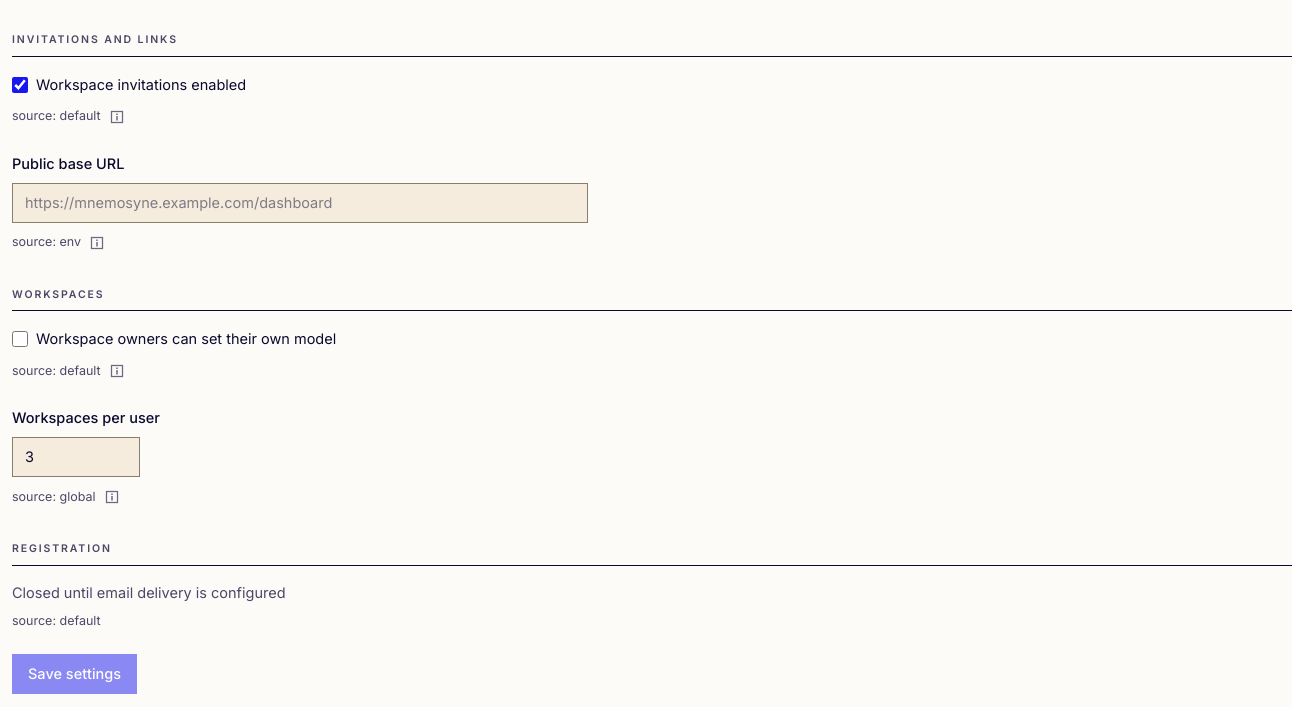
settings › clearing the address sends null; an invalid limit sends nothing
This screenshot has width=1292, height=707.
Earlier steps of the test are not shown.
Step 1. Replace the text in the number field labelled "Workspaces per user" with "5000" → (76, 457), box [12,437,140,477]
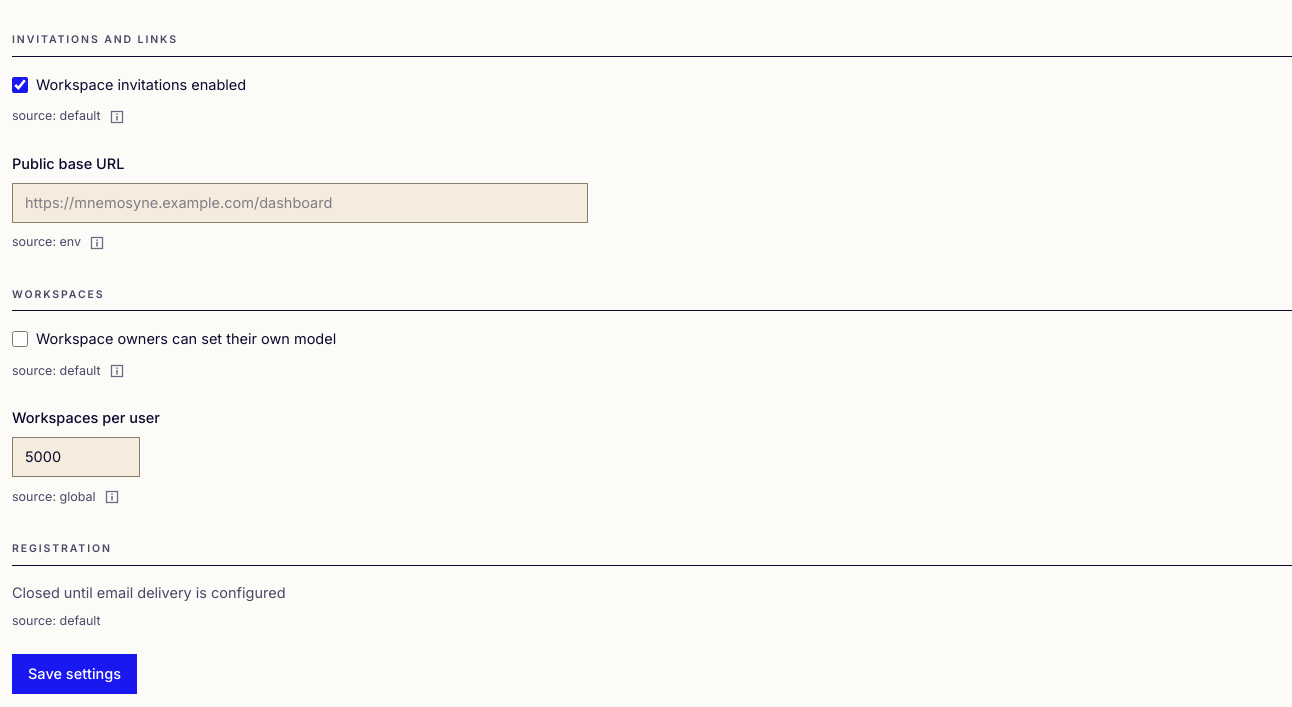
Step 2. Submit the form named "Workspaces per user"
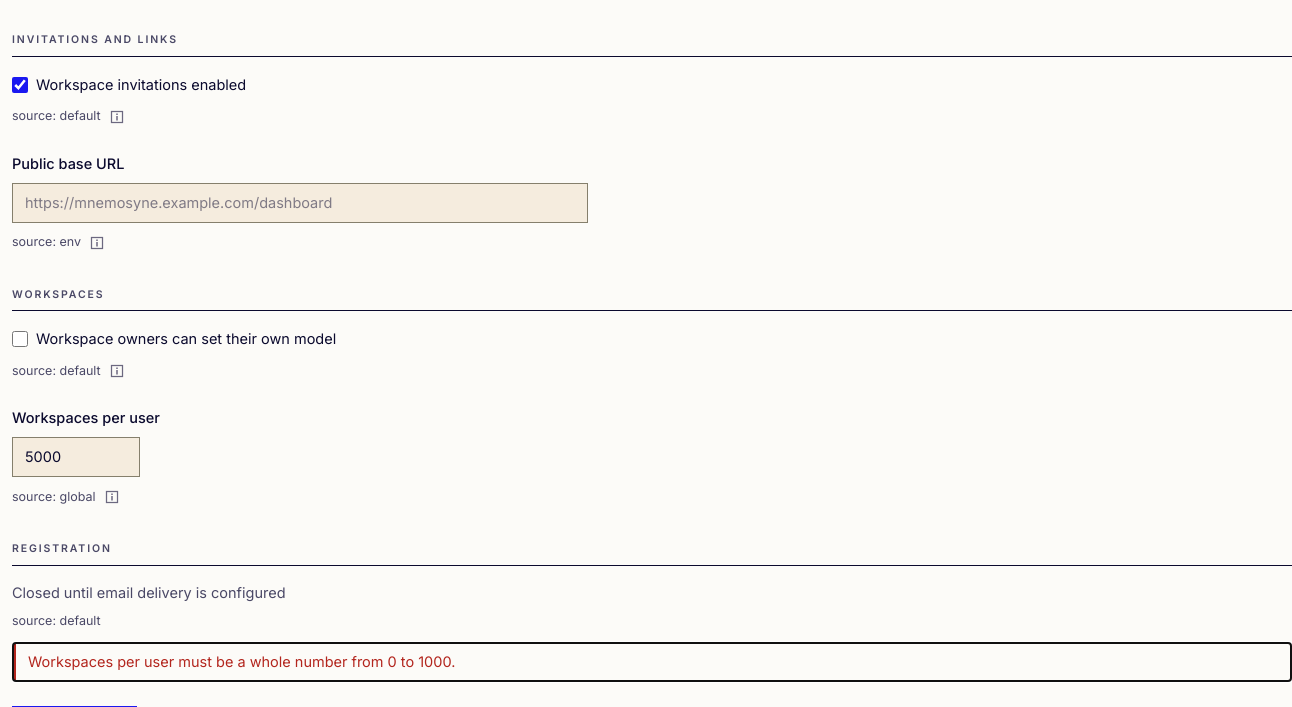
Check: the message shows "whole number from 0 to 1000", box [28,653,455,670]
